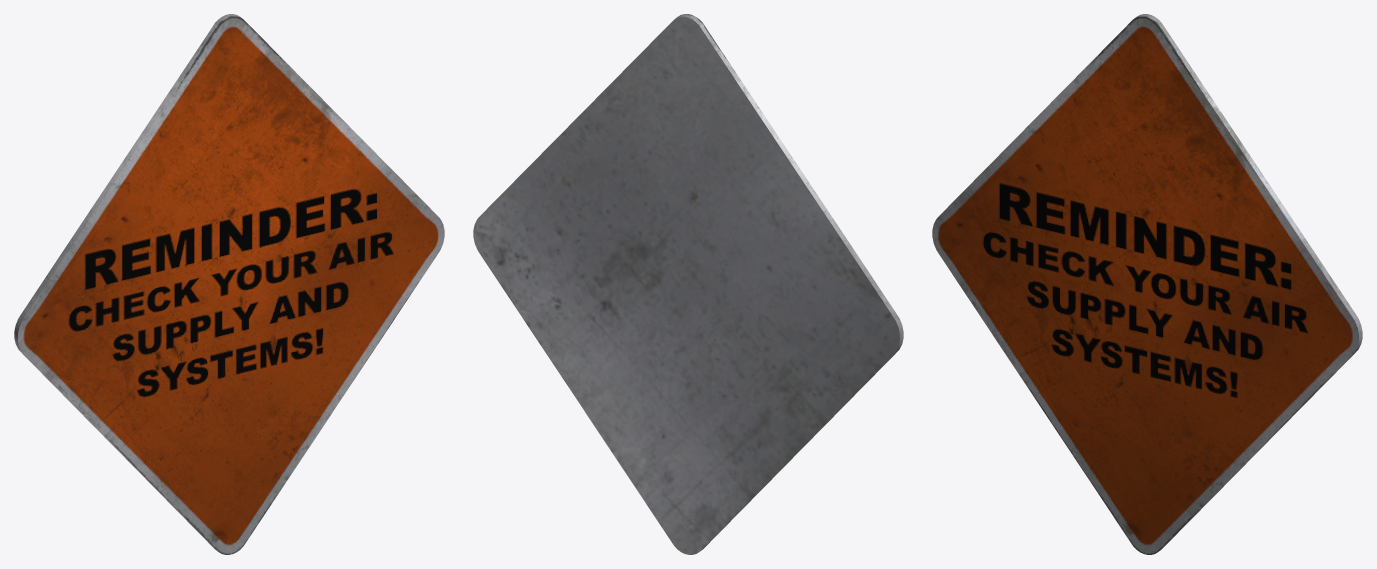
The model's file is sign_outside_reminder.dae.
The picture shows the model from 3 angles, left to right: view 1: azimuth 30°, elevation 25°; view 2: azimuth 150°, elevation 25°; view 3: azimuth 330°, elevation 25°; orthographic projection.
Parts seen in each view (by area): view 1: sign_outside_reminder; view 2: sign_outside_reminder; view 3: sign_outside_reminder.
Boxes of the visible parts, x1,y1,x2,y2 form: sign_outside_reminder: (14,14,444,554); sign_outside_reminder: (473,14,903,554); sign_outside_reminder: (932,14,1362,554).
Bounding box in the file's own units: 0.4147 × 0.4991 × 0.00614.
